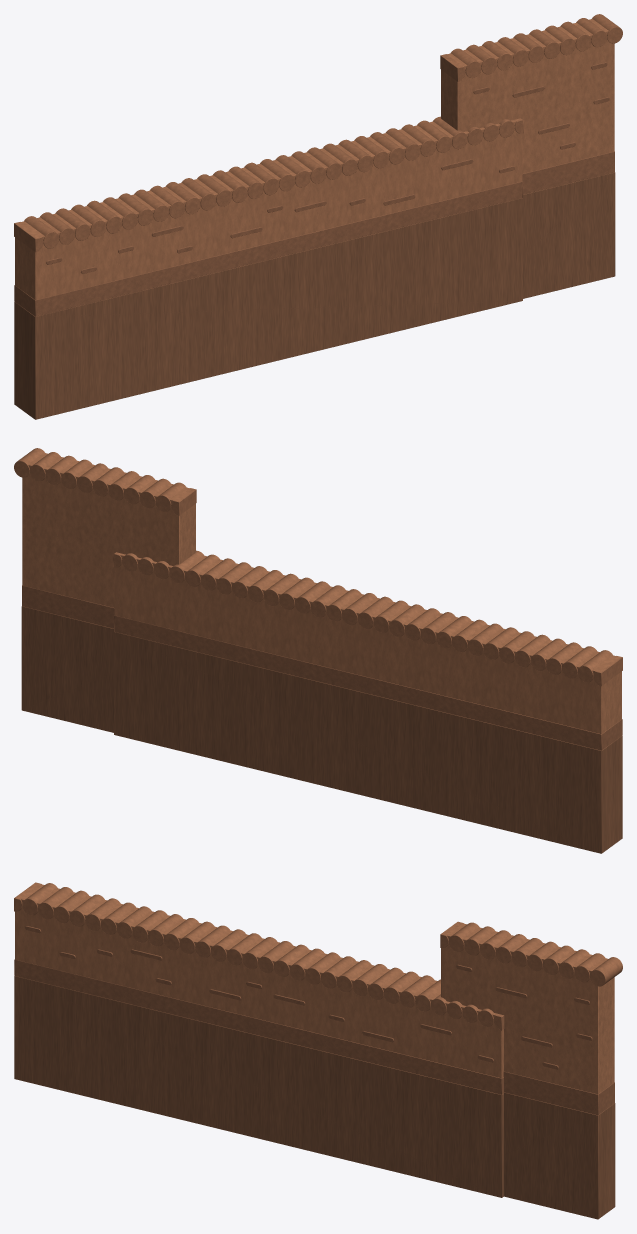
File: grond_level5.glb
3 renders of one model, top to bottom at view 1: azimuth 30°, elevation 25°; view 2: azimuth 150°, elevation 25°; view 3: azimuth 330°, elevation 25°, orthographic.
Parts seen in each view (by area): view 1: grond_L5_01, grond_L5_02; view 2: grond_L5_01, grond_L5_02; view 3: grond_L5_01, grond_L5_02.
Boxes of the visible parts, bbox=[...] form: grond_L5_01: bbox=[14, 116, 523, 419]; grond_L5_02: bbox=[440, 14, 622, 298]; grond_L5_01: bbox=[113, 550, 622, 853]; grond_L5_02: bbox=[14, 448, 196, 732]; grond_L5_01: bbox=[14, 882, 504, 1197]; grond_L5_02: bbox=[440, 921, 622, 1219].
Bounding box in the file's own units: 22.52 × 9.11 × 1.44.
Materials: 4 (4 with a texture image).
